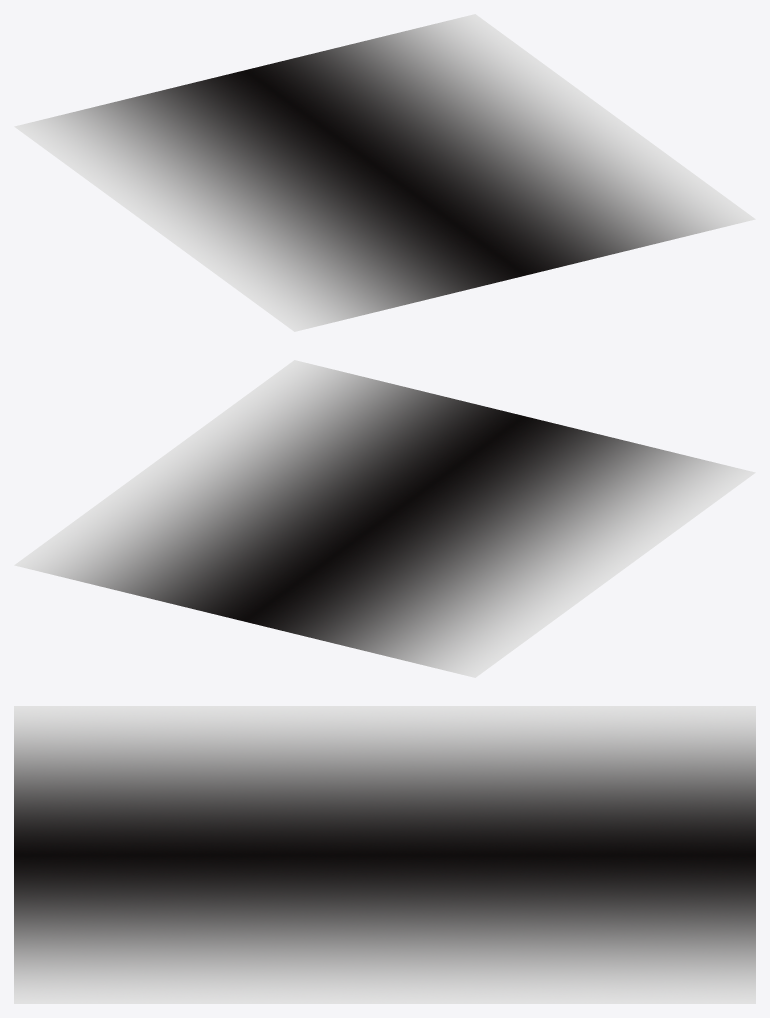
The model's file is hane.fbx.
3 views of the same model, one above another, from view 1: azimuth 30°, elevation 25°; view 2: azimuth 150°, elevation 25°; view 3: azimuth 270°, elevation 25° (orthographic). The views are drawn at different scales.
Visible parts, largest first — view 1: hane; view 2: hane; view 3: hane.
Boxes of the visible parts, x1,y1,x2,y2 form: hane: [14, 14, 755, 331]; hane: [14, 360, 755, 677]; hane: [14, 706, 755, 1003].
Size of the model in its own units: 24.4 by 0 by 25.7.
